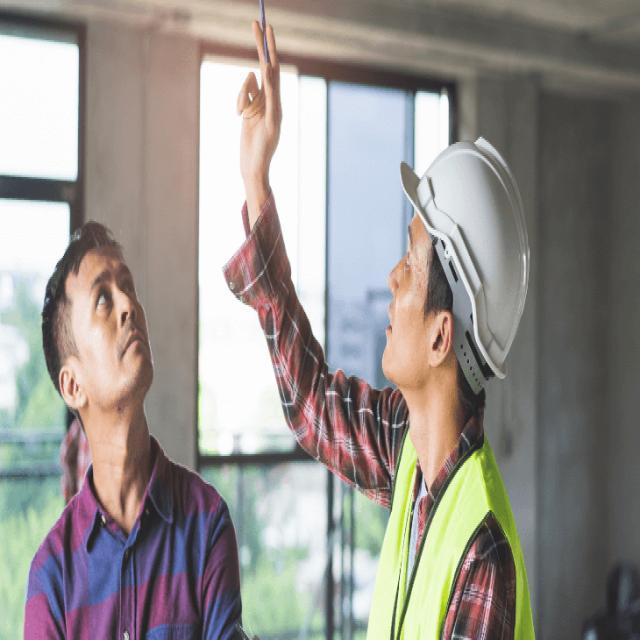secure person: (224, 140, 536, 640)
unsecured person: (18, 223, 251, 640)
